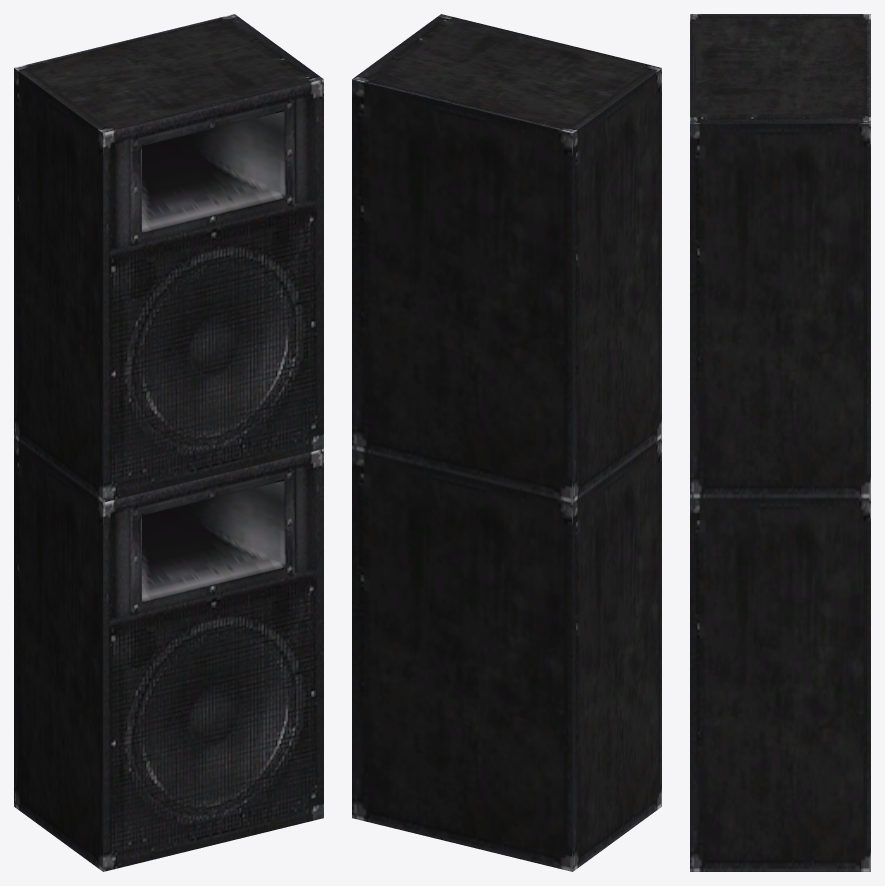
File: speaker_3m.fbx
3 renders of one model, left to right at view 1: azimuth 30°, elevation 25°; view 2: azimuth 150°, elevation 25°; view 3: azimuth 270°, elevation 25°, orthographic.
Parts seen in each view (by area): view 1: mesh_0; view 2: mesh_0; view 3: mesh_0.
Boxes of the visible parts, x1,y1,x2,y2 form: mesh_0: [14, 14, 323, 871]; mesh_0: [352, 14, 661, 871]; mesh_0: [690, 14, 870, 871].
Size of the model in its own units: 100 by 320 by 70.
Materials: 1 (1 with a texture image).
